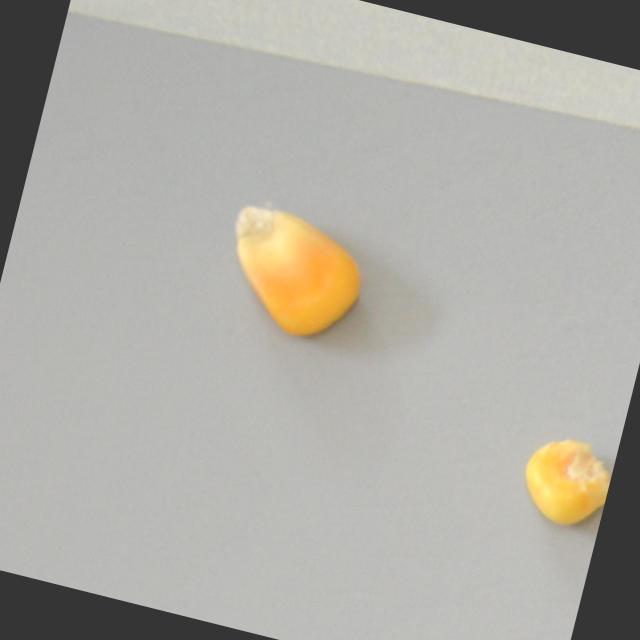entero: (206, 196, 378, 351)
pelicula: (513, 426, 618, 535)
